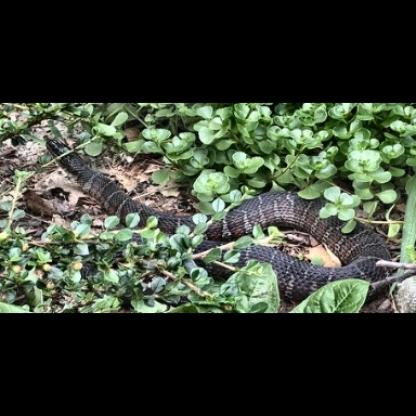Snake: (1, 138, 414, 332)
